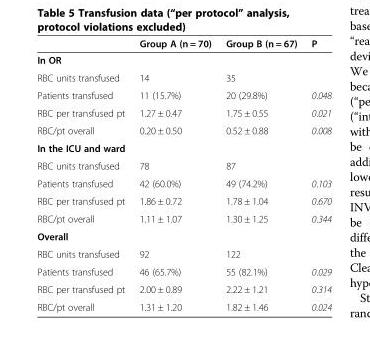table: (36, 37, 331, 312)
table column: (36, 37, 131, 312), (131, 37, 217, 312), (217, 37, 303, 312), (303, 37, 331, 312)
table column header: (36, 37, 331, 51)
table projected row header: (36, 138, 331, 156), (36, 51, 331, 68), (36, 227, 331, 244)
table row: (36, 68, 331, 86), (36, 103, 331, 121), (36, 138, 331, 156), (36, 156, 331, 174), (36, 191, 331, 209), (36, 209, 331, 227), (36, 244, 331, 262), (36, 262, 331, 280), (36, 51, 331, 68), (36, 86, 331, 103), (36, 121, 331, 138), (36, 174, 331, 191), (36, 227, 331, 244), (36, 280, 331, 297), (36, 297, 331, 312), (36, 37, 331, 51)
